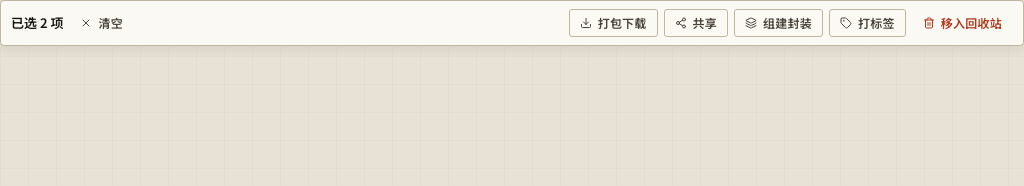
it: LibraryBulkBar · 清空后不留上一批的标签 › 清空（选中数归零）会把打标签面板和已选标签一起复位
The image size is (1024, 186).
Later steps or results of the test are not shown.
Click the button "打标签": (867, 23) [829,9,906,37]
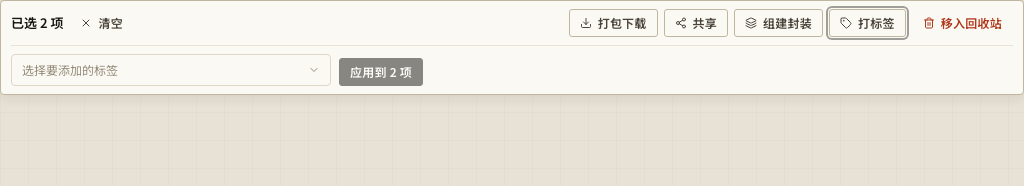
Click the button with aria-label "批量添加标签": (70, 70) [11,54,331,86]
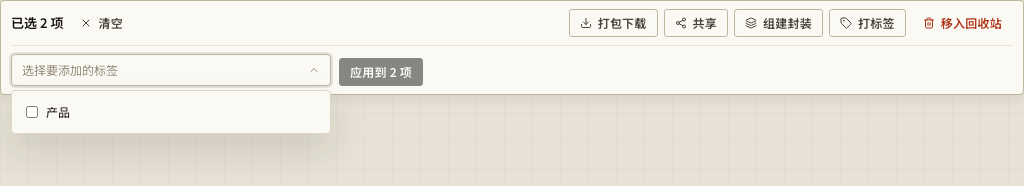
Click the checkbox labelled "产品": (32, 112) [26,106,38,118]
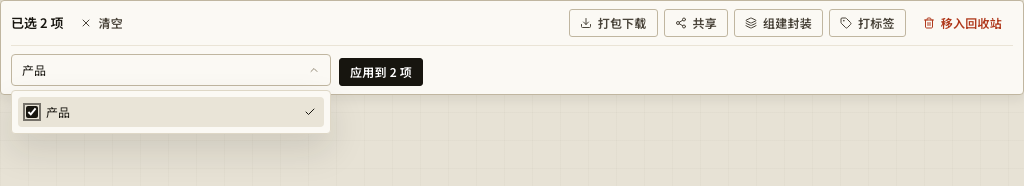
Result: the button "应用到 2 项" is enabled at [339,58,423,86]
